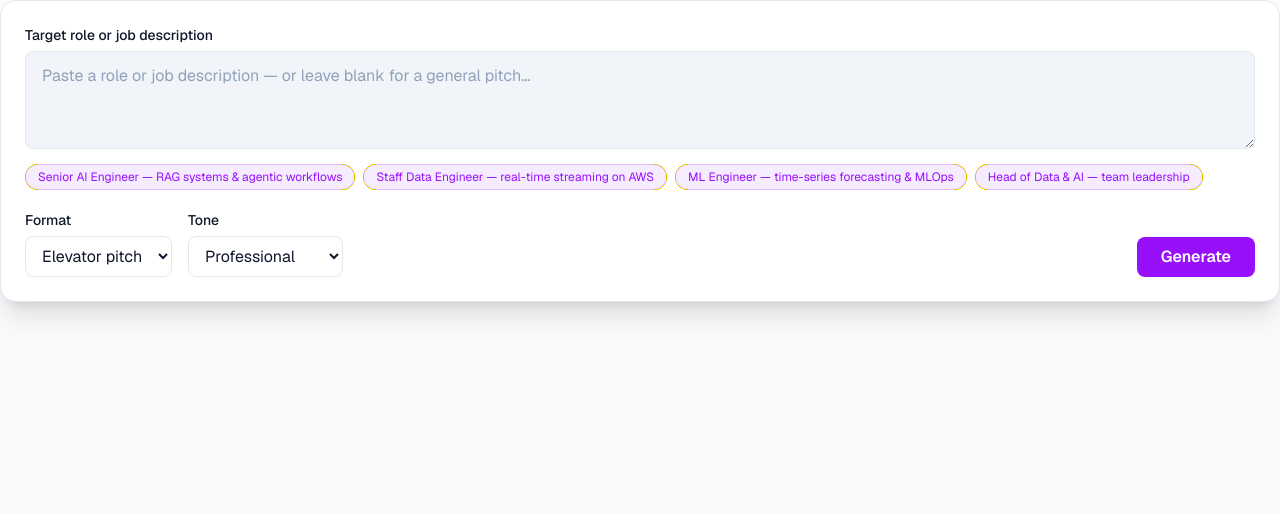
it: ContentGenerator (streaming) › keeps a partial draft with a notice when the stream dies mid-write (#211)
Click the button "Generate". click: (1196, 257)
box: top-left (1137, 237), bottom-right (1255, 277)
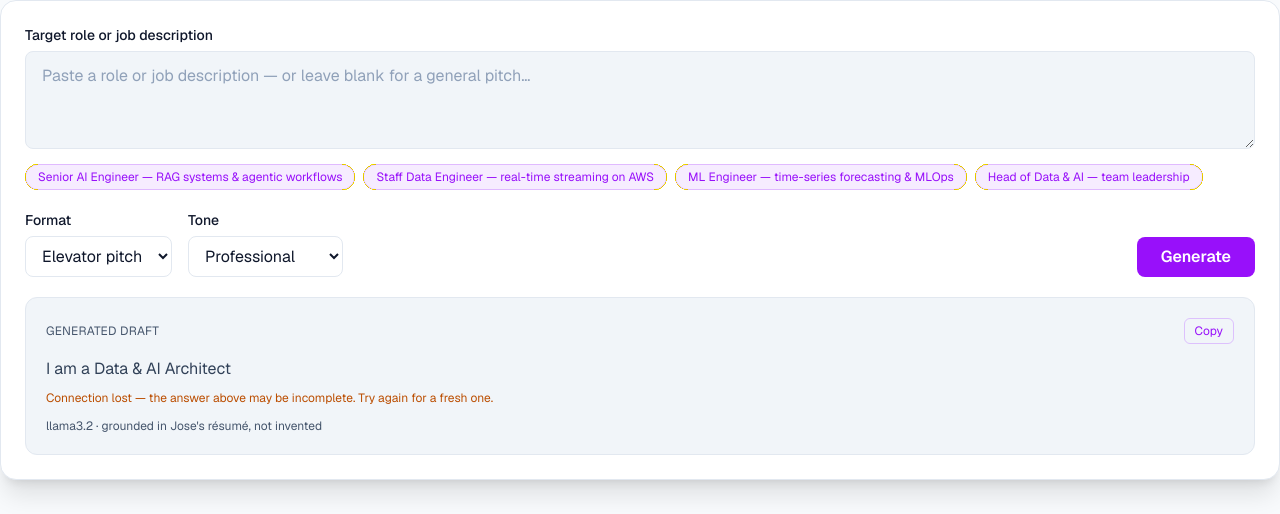
Expected: the text "I am a Data & AI Architect" is shown, top-left (46, 358), bottom-right (231, 379)
Expected: the text "answer above may be incomplete" is shown, top-left (46, 390), bottom-right (493, 406)
